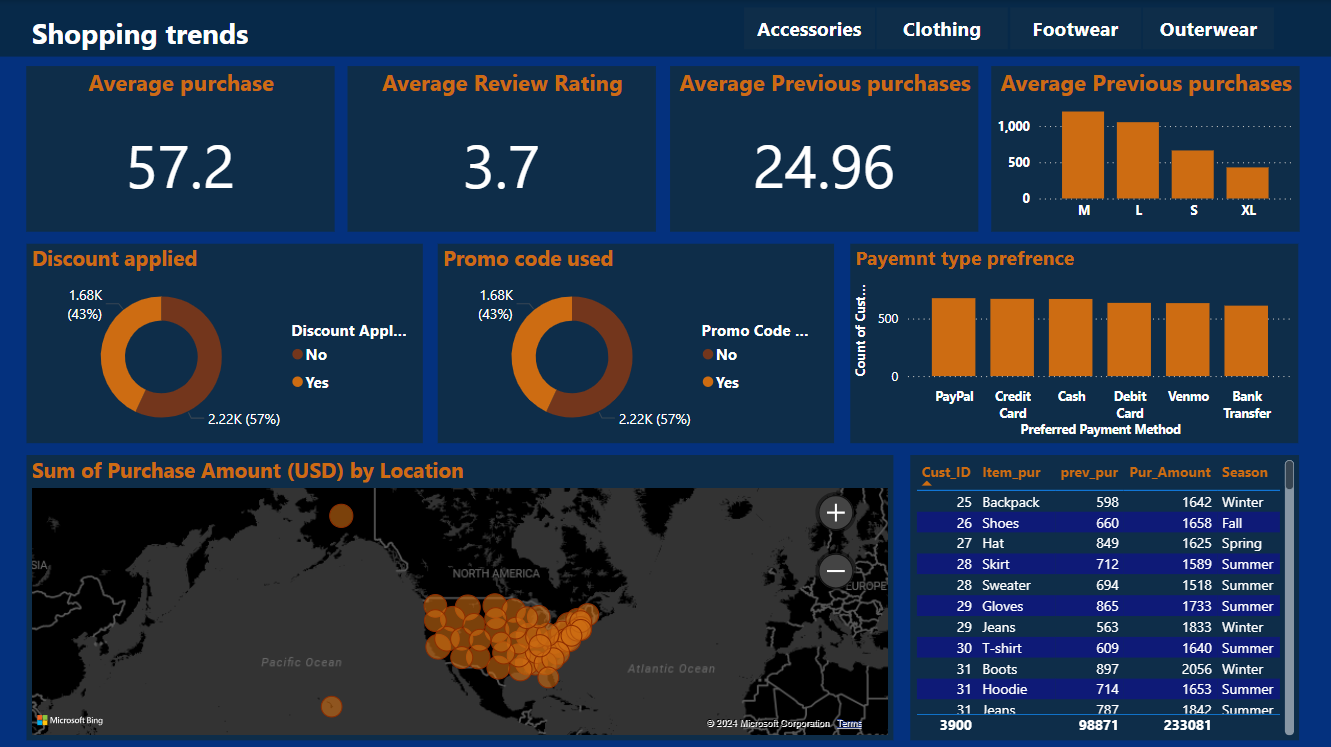

The page's visual inventory and layout, read from the dashboard file:
{"tool":"powerbi","page":{"name":"dashboard","canvas":[1280,720],"ordinal":0},"visuals":[{"type":"shape","box":[0,0,1279.9,720.2],"z":0},{"type":"group","id":"g1","title":"Group 1","box":[26,63.3,1220,646.7],"z":0,"group":"g3"},{"type":"donutChart","title":"Discount applied ","fields":{"Category":["shopping_trends.Discount Applied"],"Y":["CountNonNull(shopping_trends.Customer ID)"]},"box":[26,232.9,379.9,191.1],"z":0,"group":"g1"},{"type":"group","id":"g2","title":"Group 2","box":[0,0,1279.9,54.3],"z":1000,"group":"g3"},{"type":"shape","box":[0,0,1279.9,54.3],"z":1000,"group":"g2"},{"type":"kpi","title":"Average Review Rating","fields":{"TrendLine":["shopping_trends.Category"],"Indicator":["Avg(shopping_trends.Review Rating)"]},"box":[334.4,63.3,294.8,158.2],"z":1000,"group":"g1"},{"type":"textbox","box":[26.4,8.4,227.7,45.5],"z":2000,"group":"g2"},{"type":"clusteredColumnChart","title":"Average Previous purchases","fields":{"Y":["CountNonNull(shopping_trends.Customer ID)"],"Category":["shopping_trends.Size"]},"box":[951.2,63.3,294.8,158.2],"z":2000,"group":"g1"},{"type":"slicer","fields":{"Values":["shopping_trends.Category"]},"box":[687.9,0,558.5,53.9],"z":3000,"group":"g2"},{"type":"donutChart","title":"Promo code used","fields":{"Category":["shopping_trends.Promo Code Used"],"Y":["CountNonNull(shopping_trends.Customer ID)"]},"box":[420.6,232.9,379.9,191.1],"z":3000,"group":"g1"},{"type":"map","fields":{"Category":["shopping_trends.Location"],"Size":["Sum(shopping_trends.Purchase Amount (USD))"]},"box":[26,436.4,831,273.6],"z":4000,"group":"g1"},{"type":"kpi","title":"Average purchase","fields":{"Indicator":["Avg(shopping_trends.Purchase Amount (USD))"],"TrendLine":["shopping_trends.Category"]},"box":[26,63.3,294.8,158.2],"z":5000,"group":"g1"},{"type":"tableEx","fields":{"Values":["CountNonNull(shopping_trends.Customer ID)","shopping_trends.Item Purchased","Sum(shopping_trends.Previous Purchases)","Sum(shopping_trends.Purchase Amount (USD))","shopping_trends.Season"]},"box":[872.9,436.4,373.1,273.6],"z":6000,"group":"g1"},{"type":"group","id":"g3","title":"Group 3","box":[0,0,1279.9,710.1],"z":6004},{"type":"kpi","title":"Average Previous purchases","fields":{"TrendLine":["shopping_trends.Category"],"Indicator":["Avg(shopping_trends.Previous Purchases)"]},"box":[642.8,63.3,294.8,158.2],"z":7000,"group":"g1"},{"type":"clusteredColumnChart","title":"Payemnt type prefrence","fields":{"Category":["shopping_trends.Preferred Payment Method"],"Y":["CountNonNull(shopping_trends.Customer ID)"]},"box":[816.3,232.9,429.7,191.1],"z":8000,"group":"g1"}]}

Visuals, with their boxes in screenshot pixels (x1, y1, x2, y2), scaled from the page's 1280x720 canvas onto the 1331x747 screenshot:
shape: (left=0, top=0, right=1330, bottom=746)
"Group 1" group: (left=27, top=66, right=1296, bottom=737)
"Discount applied " donutChart: (left=27, top=242, right=422, bottom=440)
"Group 2" group: (left=0, top=0, right=1330, bottom=56)
shape: (left=0, top=0, right=1330, bottom=56)
"Average Review Rating" kpi: (left=348, top=66, right=654, bottom=230)
textbox: (left=27, top=9, right=264, bottom=56)
"Average Previous purchases" clusteredColumnChart: (left=989, top=66, right=1296, bottom=230)
slicer - shopping_trends.Category: (left=715, top=0, right=1296, bottom=56)
"Promo code used" donutChart: (left=437, top=242, right=832, bottom=440)
map - shopping_trends.Location x Sum(shopping_trends.Purchase Amount (USD)): (left=27, top=453, right=891, bottom=737)
"Average purchase" kpi: (left=27, top=66, right=334, bottom=230)
tableEx - CountNonNull(shopping_trends.Customer ID) x shopping_trends.Item Purchased: (left=908, top=453, right=1296, bottom=737)
"Group 3" group: (left=0, top=0, right=1330, bottom=737)
"Average Previous purchases" kpi: (left=668, top=66, right=975, bottom=230)
"Payemnt type prefrence" clusteredColumnChart: (left=849, top=242, right=1296, bottom=440)
